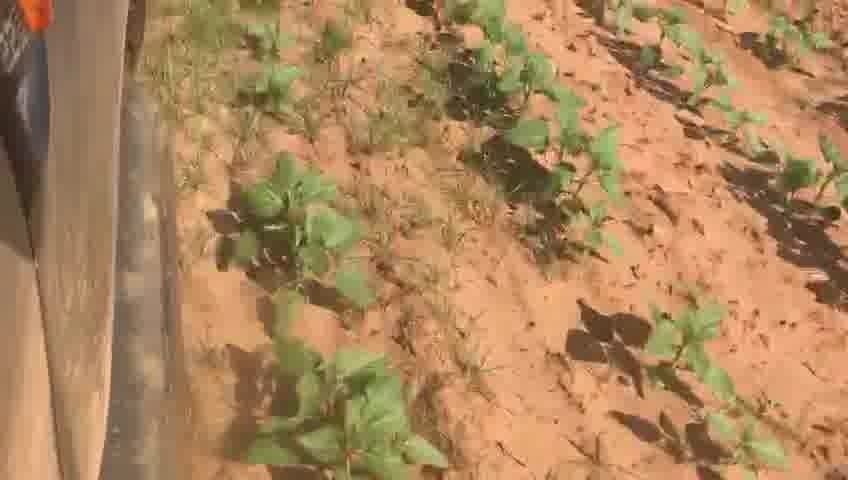sunflower: (243, 340, 452, 475), (217, 152, 376, 310), (506, 117, 620, 222), (474, 59, 576, 163), (458, 15, 566, 113), (641, 297, 738, 406), (224, 22, 301, 120), (687, 403, 792, 472), (778, 126, 842, 228), (668, 36, 734, 118), (708, 94, 762, 159)
